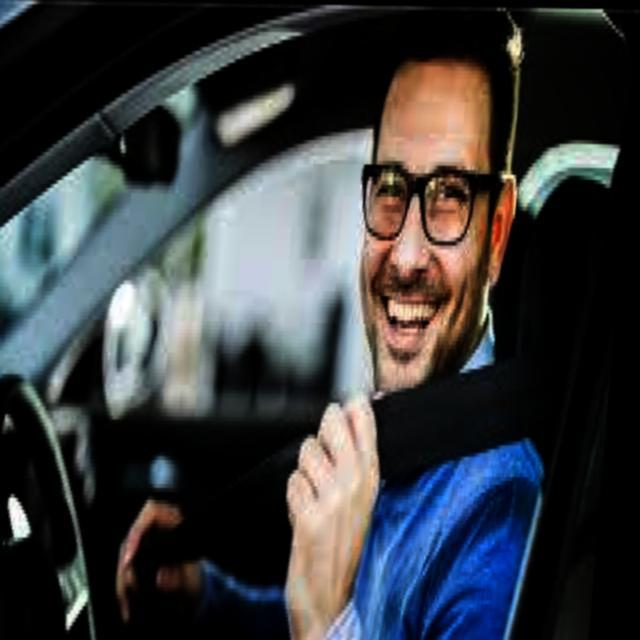seatbelt: (295, 327, 595, 640)
